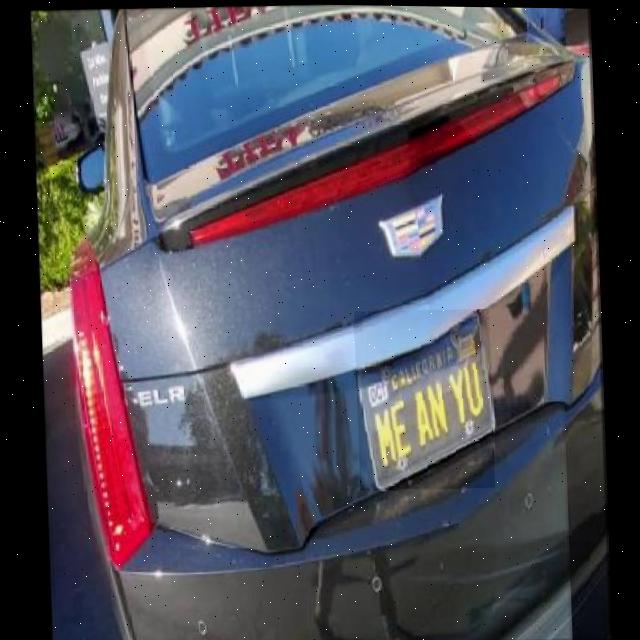LicensePlate: (357, 308, 492, 488)
